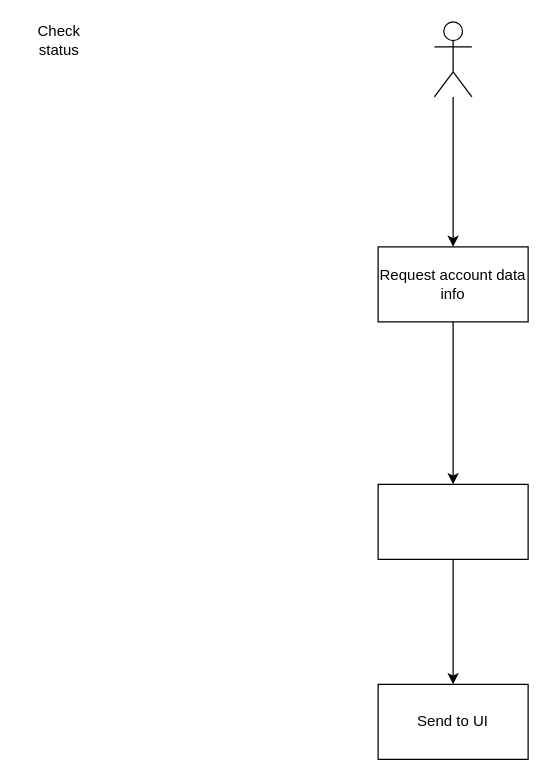
Image size: 550x781. Some labels were removed from this diagram. Here are the shapes that lost their labels. From the top down, the centre of each, then its label:
At (x=452, y=59): "Actor".
At (x=452, y=521): "Pull data from DB".
